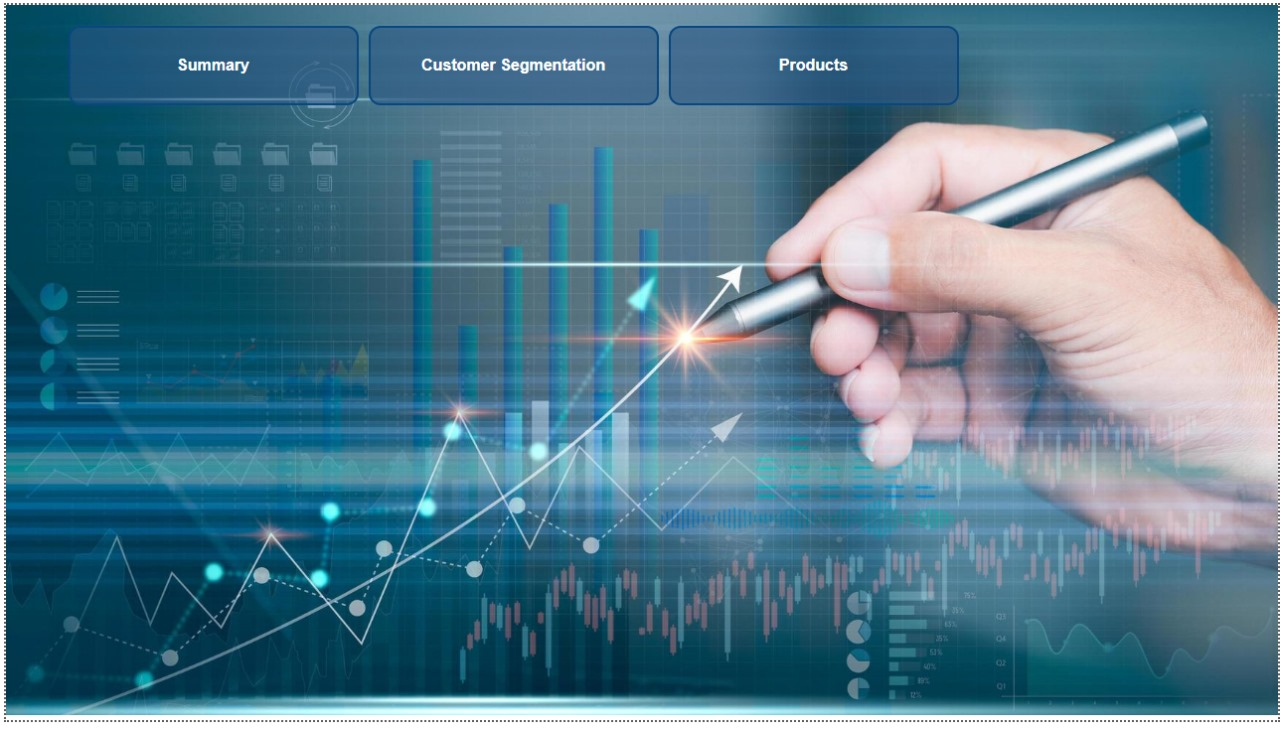

Layout of this report page (visuals, bound fields, positions):
{"tool":"powerbi","page":{"name":"Home Page","canvas":[1280,720],"ordinal":0},"visuals":[{"type":"pageNavigator","box":[48,16,1184,80],"z":0}]}

Visuals, with their boxes in screenshot pixels (x1, y1, x2, y2), scaled from the page's 1280x720 canvas onto the 1280x730 screenshot:
pageNavigator: pyautogui.locateOnScreen(48, 16, 1232, 97)
